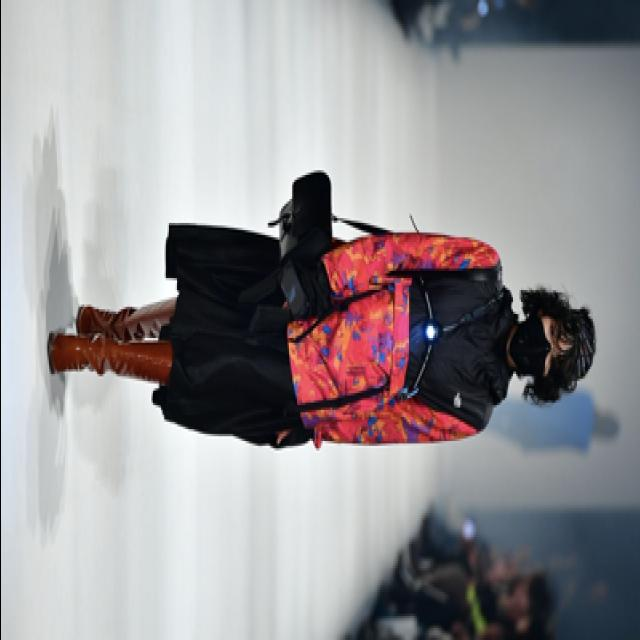mask: (512, 314, 566, 378)
